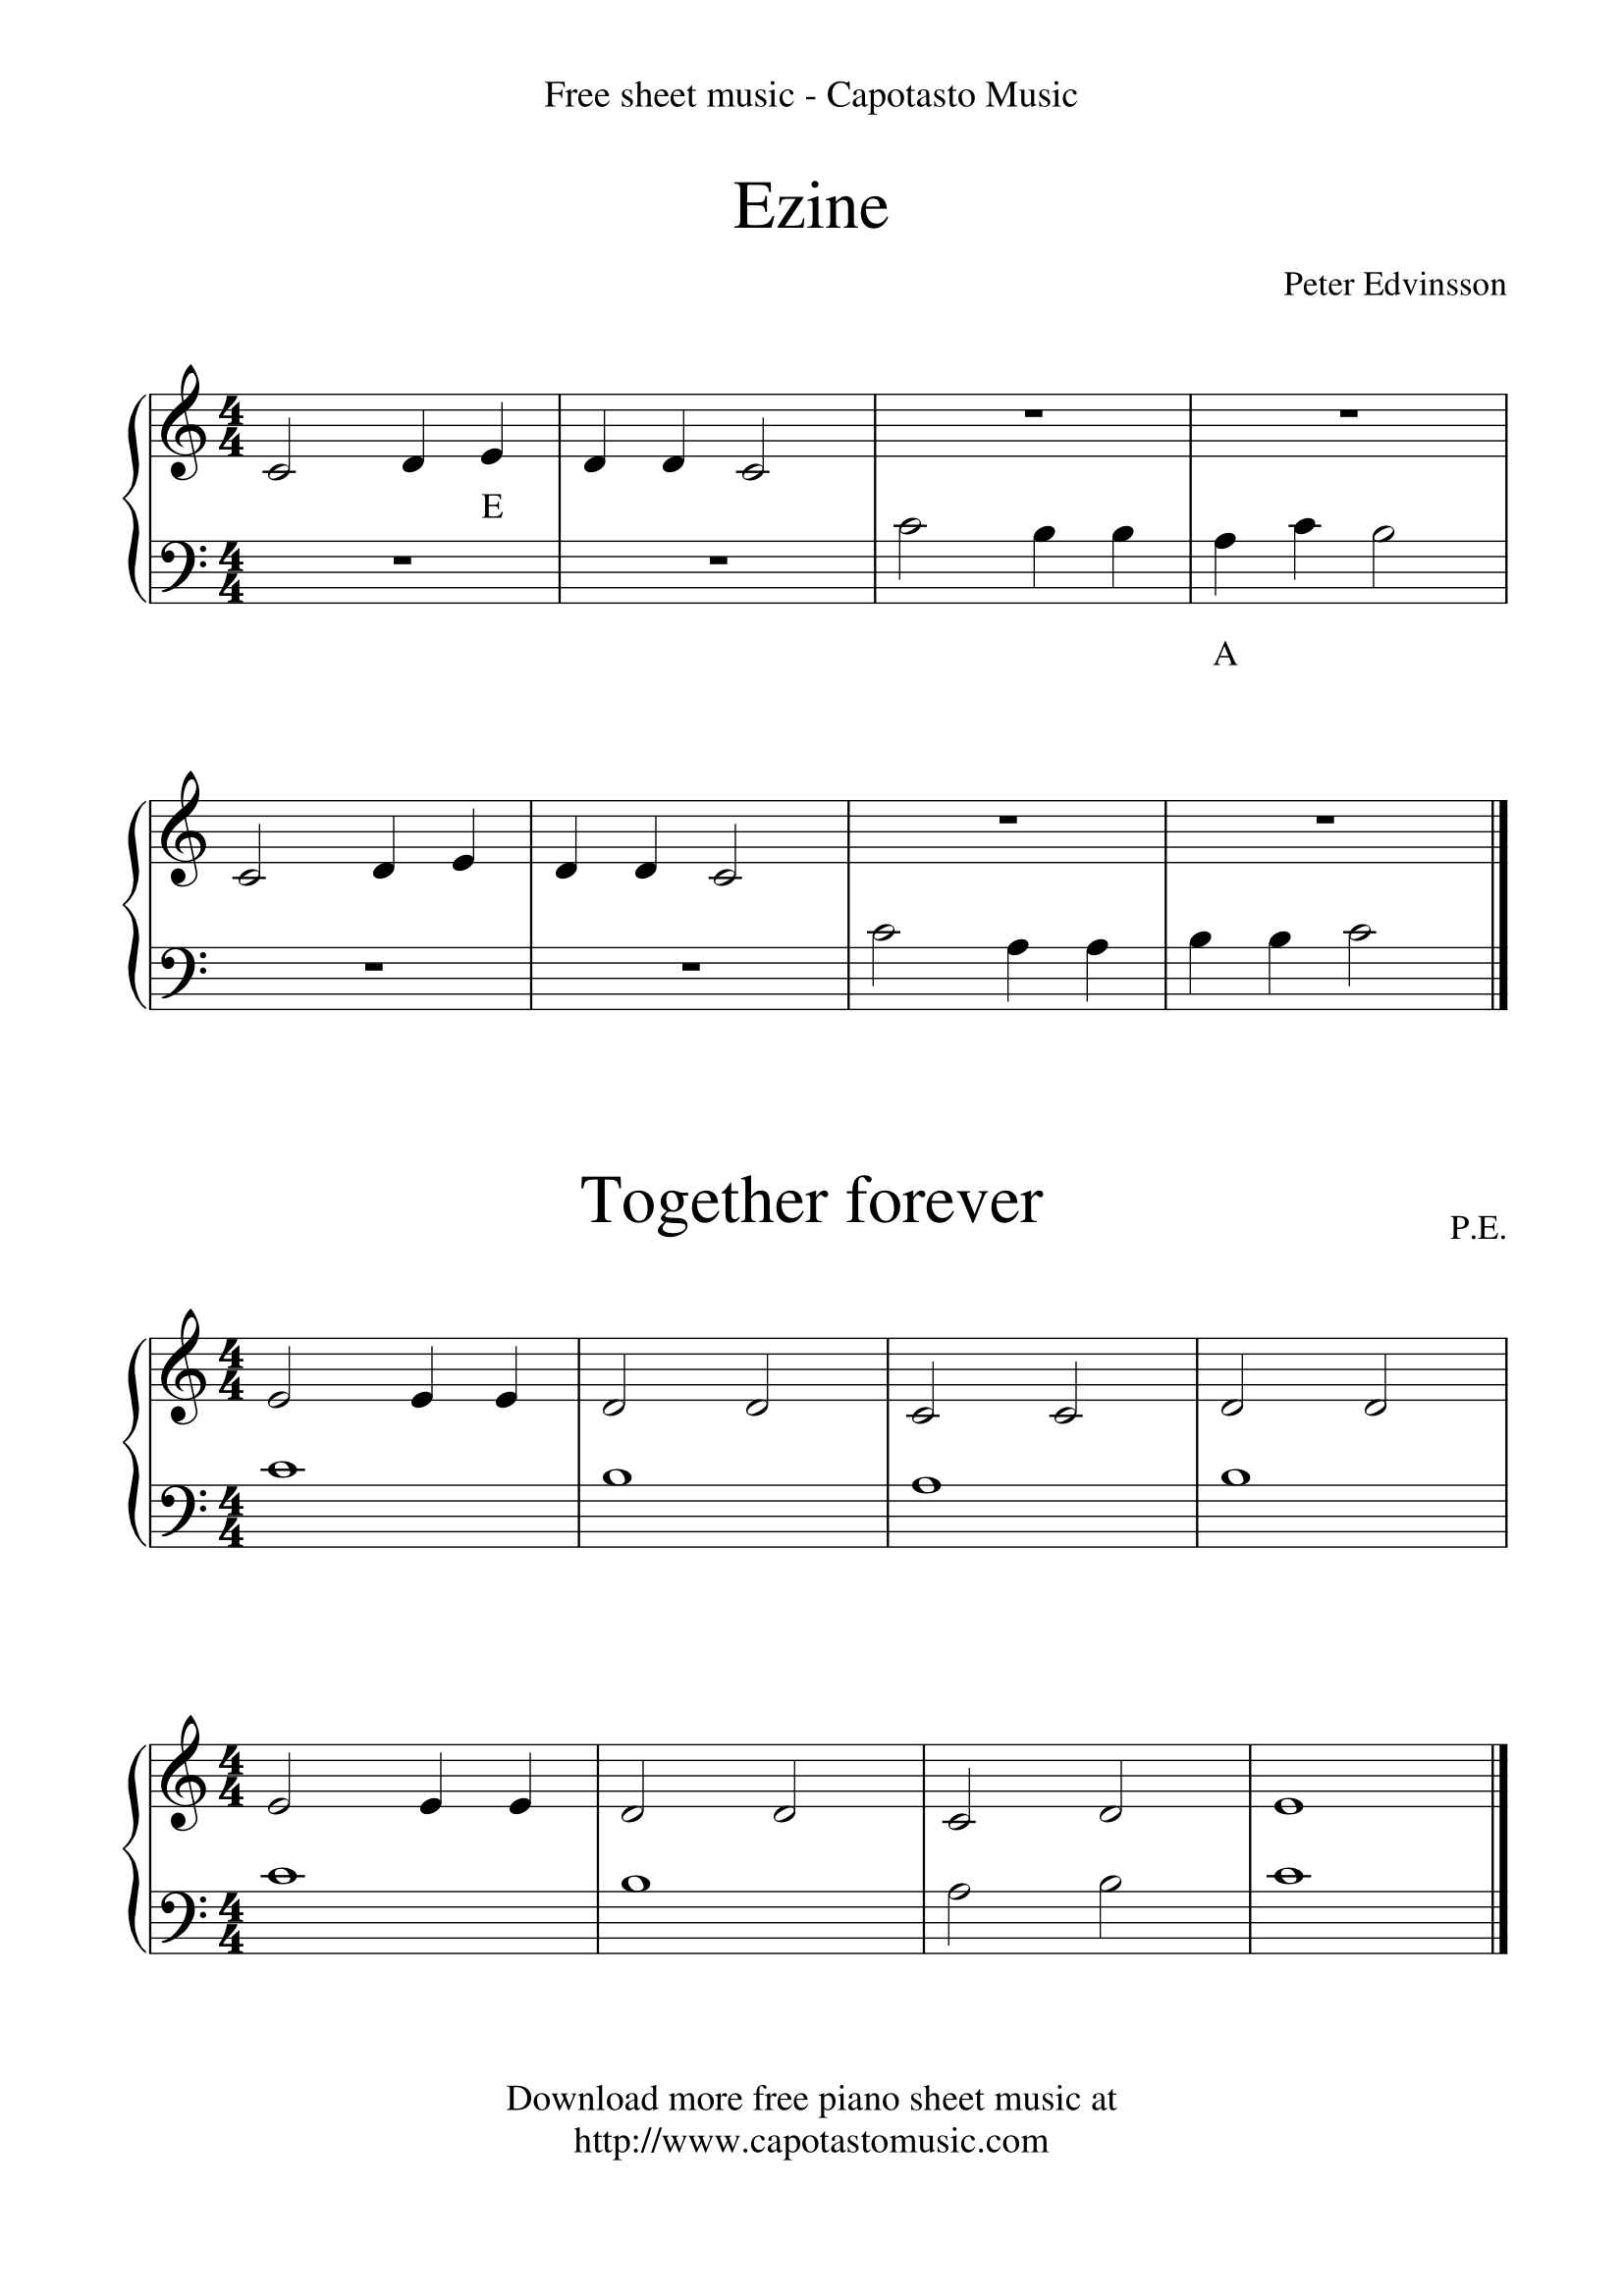half: (1077, 1862, 1156, 1950), (901, 1339, 966, 1445), (1351, 1336, 1412, 1446), (255, 395, 318, 497), (729, 1336, 796, 1431), (228, 799, 286, 906), (590, 1332, 650, 1434), (1080, 1748, 1142, 1843), (1052, 1339, 1100, 1460), (1210, 1336, 1270, 1431), (938, 1745, 989, 1855), (256, 1745, 318, 1831), (931, 1875, 992, 1961), (738, 393, 787, 497), (611, 1745, 662, 1840), (855, 922, 910, 1004), (885, 507, 931, 604), (717, 795, 754, 915), (768, 1745, 811, 1843), (1337, 925, 1384, 1008), (1356, 509, 1396, 602), (265, 1343, 307, 1415)
quarter: (627, 800, 682, 909), (573, 393, 627, 500), (390, 393, 446, 497), (653, 393, 706, 500), (488, 1336, 545, 1434), (441, 795, 492, 899), (1254, 925, 1312, 1009), (1277, 513, 1330, 604), (548, 800, 595, 899), (497, 1745, 548, 1831), (364, 799, 409, 893), (1179, 927, 1230, 1009), (400, 1339, 451, 1422), (1013, 527, 1068, 602), (989, 941, 1043, 1013), (1071, 930, 1119, 1013), (418, 1745, 462, 1831), (1100, 523, 1143, 607), (1203, 520, 1245, 602), (480, 393, 513, 493)
whole: (1258, 1859, 1324, 1954), (1198, 1457, 1270, 1543), (896, 1469, 966, 1555), (255, 1862, 318, 1957), (1258, 1752, 1324, 1834), (255, 1457, 311, 1545), (611, 1875, 671, 1954), (590, 1466, 646, 1548)
